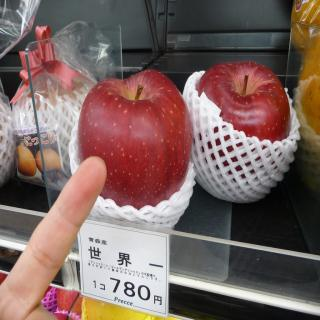Apple: (77, 67, 193, 208), (193, 59, 291, 182)
